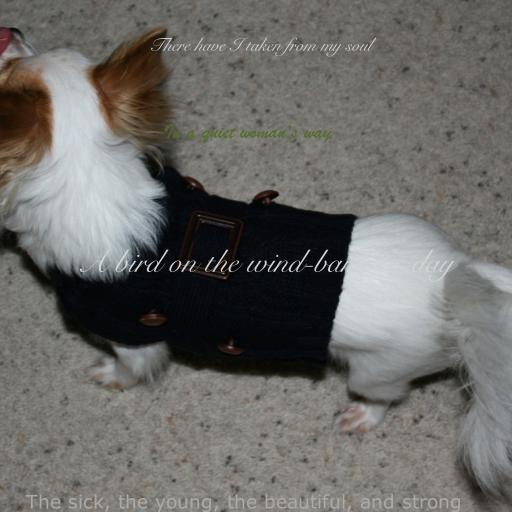Brush Script MT: (163, 123, 331, 144)
Snell Roundhand: (76, 249, 454, 282), (148, 37, 372, 57)
Verdana: (26, 494, 462, 512)
